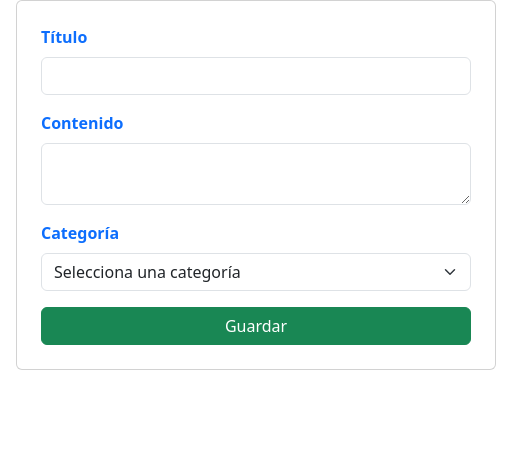
ArticleForm › muestra errores de validación y no envía cuando hay errores
Type "ab" into the field labelled "Título" at (256, 76), box [41,57,471,95]
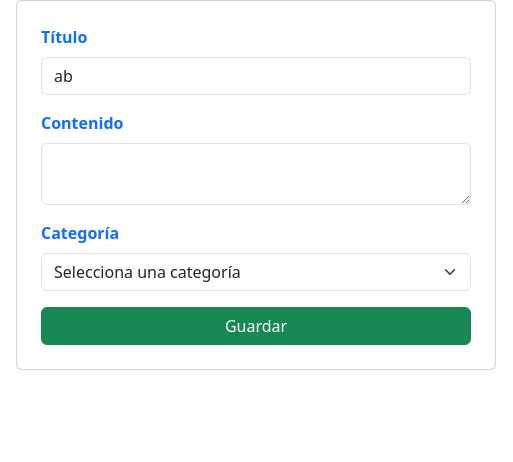
Type "corto" into the text box labelled "Contenido" at (256, 174), box [41,143,471,205]
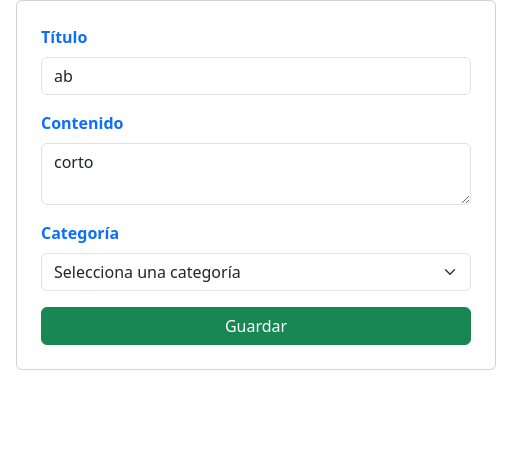
Click the button "Guardar" at (256, 326), box [41,307,471,345]
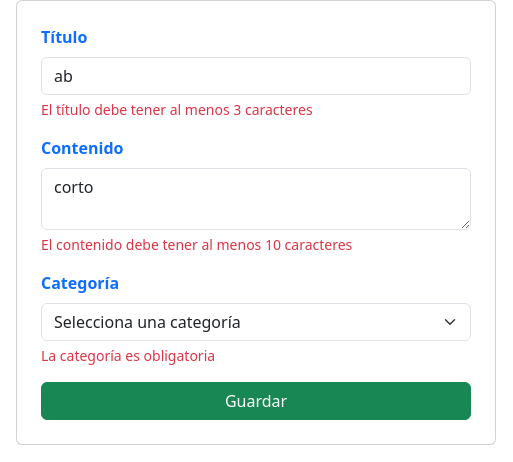
Check: the text "El título debe tener al menos 3 caracteres" is shown, box [41,100,313,119]
Check: the text "El contenido debe tener al menos 10 caracteres" is shown, box [41,235,352,254]
